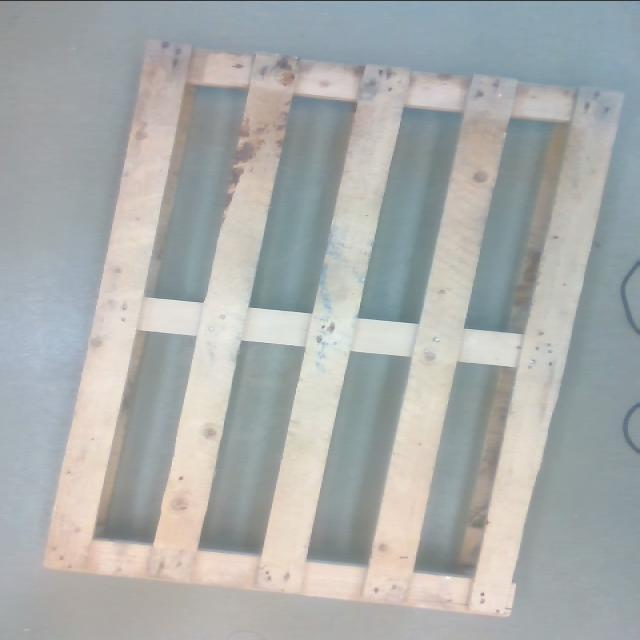pallet: (30, 41, 628, 619)
